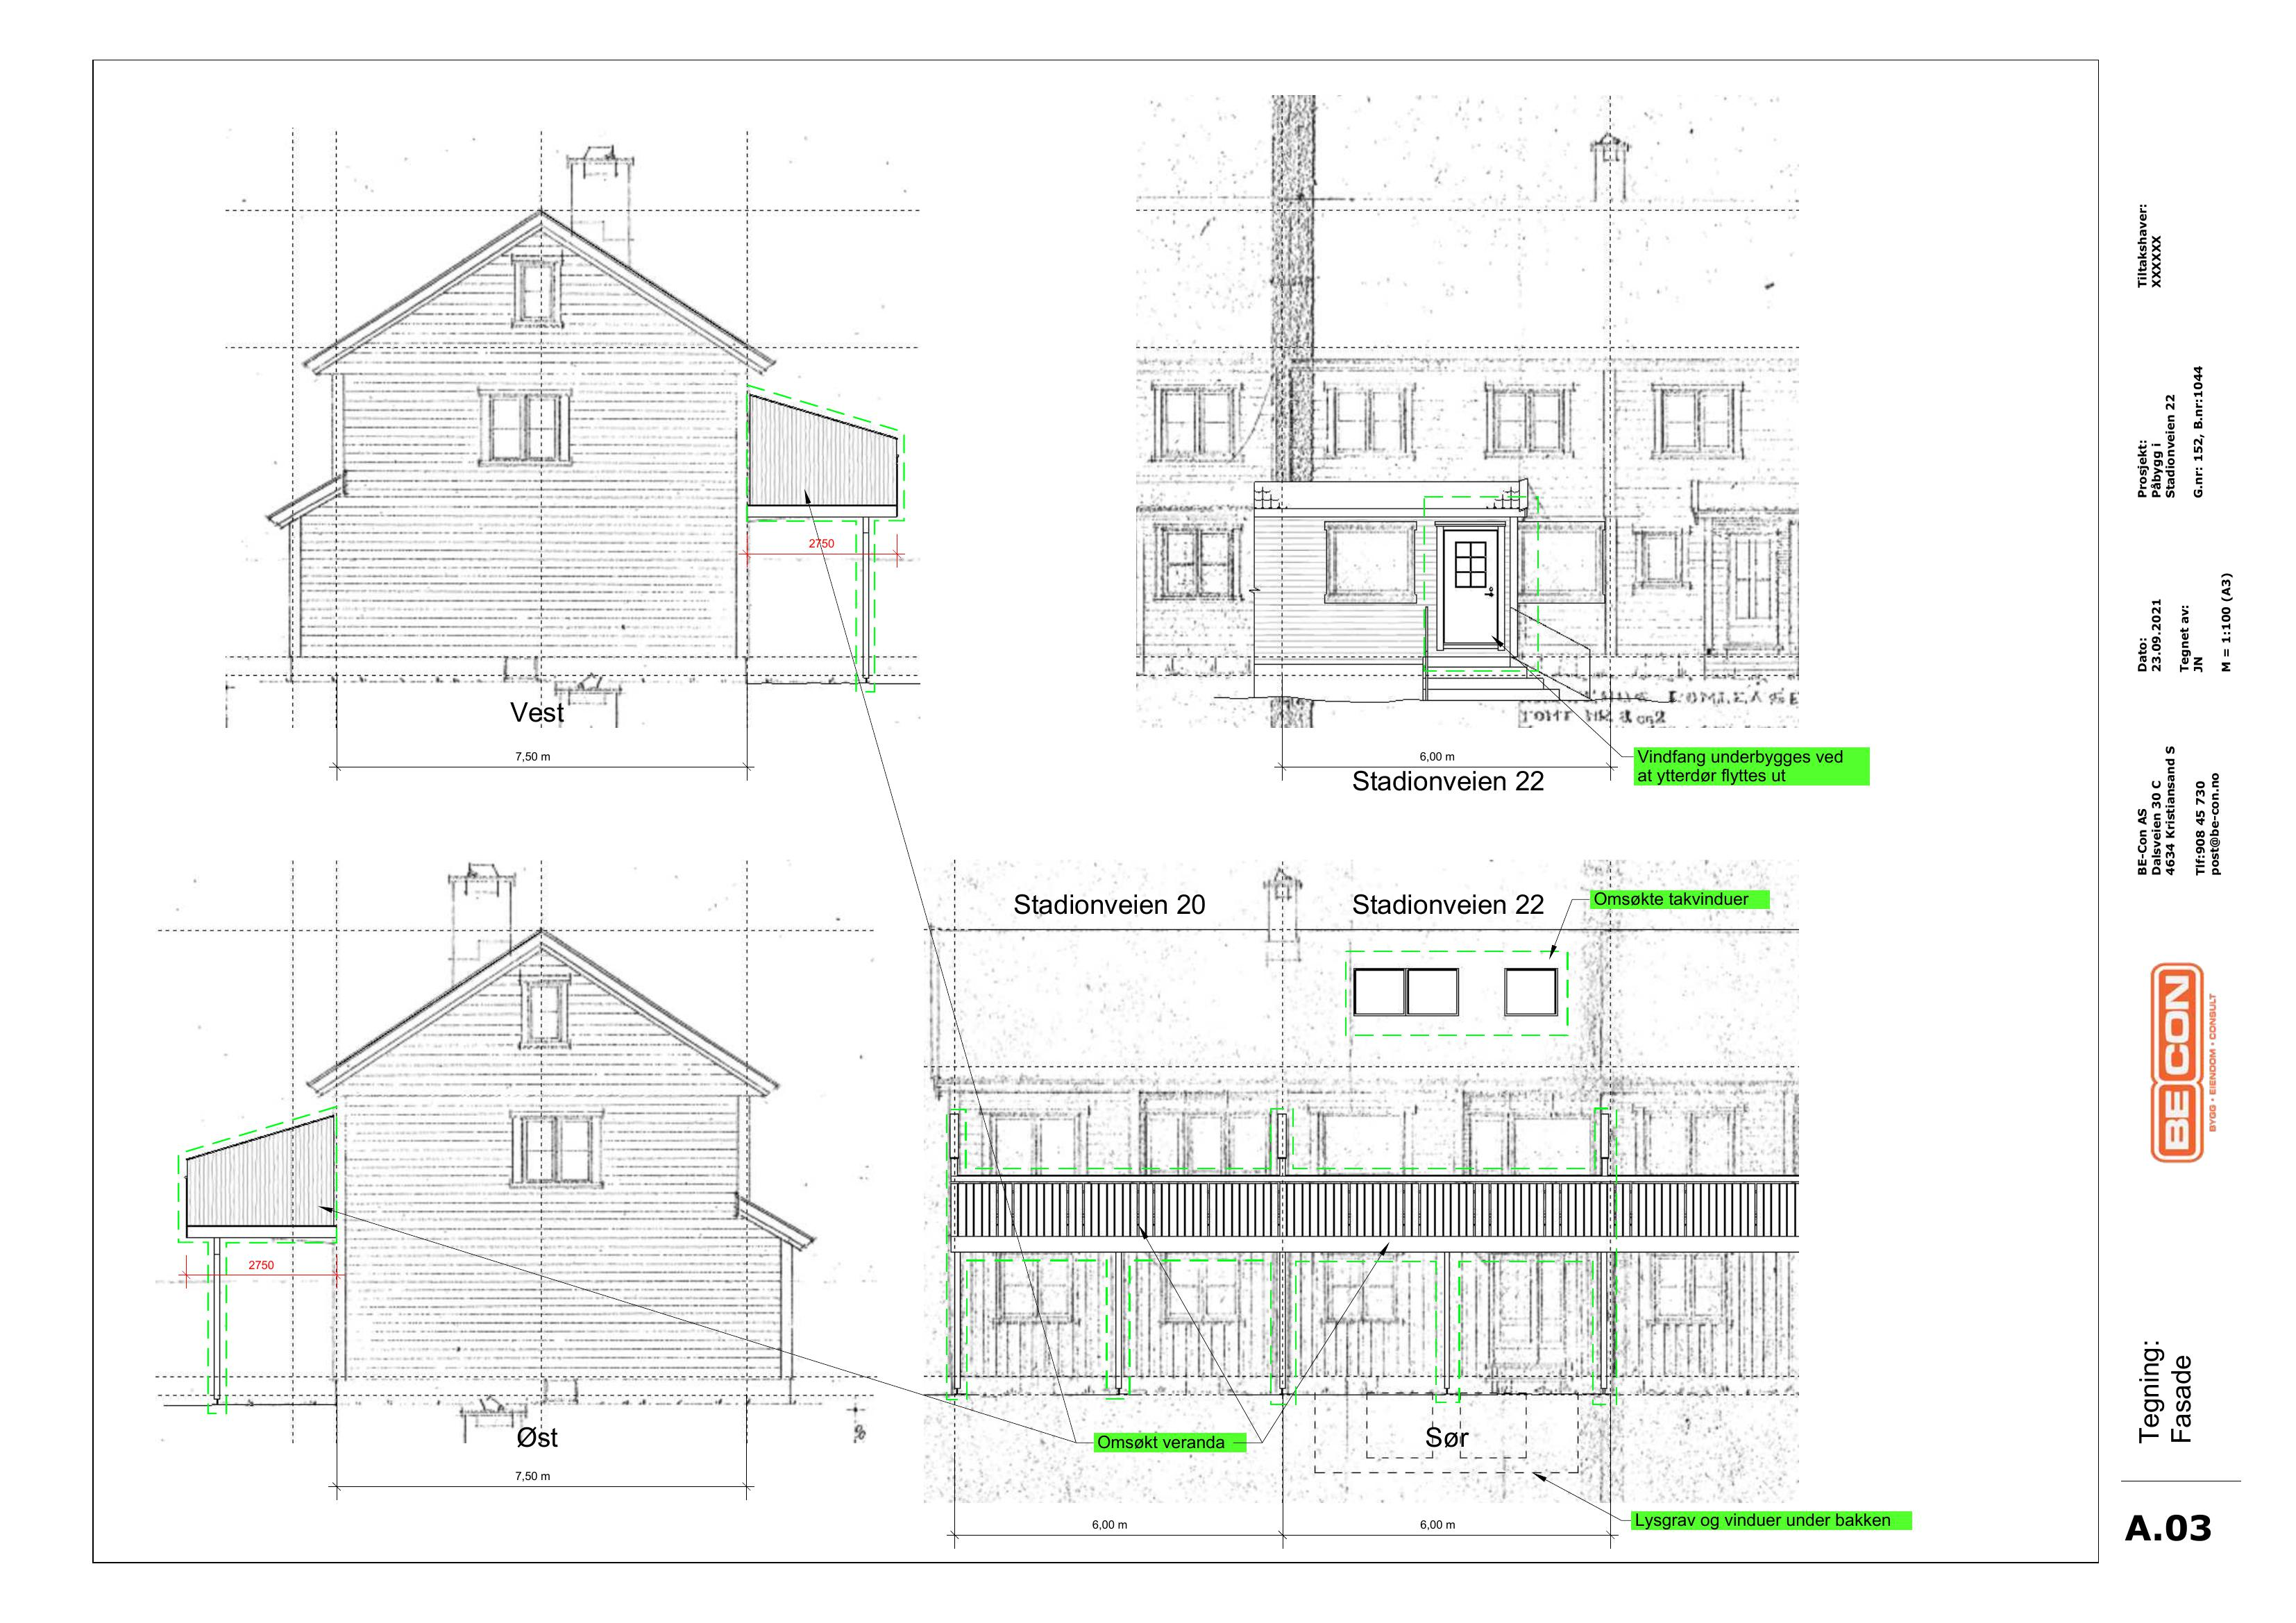fasade: (1116, 104, 1816, 729), (946, 940, 1794, 1409), (165, 896, 817, 1403), (266, 206, 915, 696)
